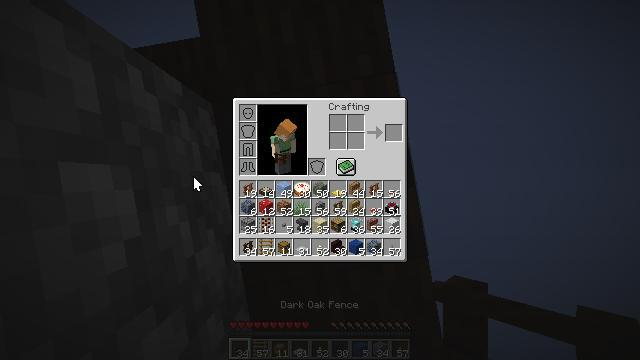cursor: (176, 193, 192, 203)
